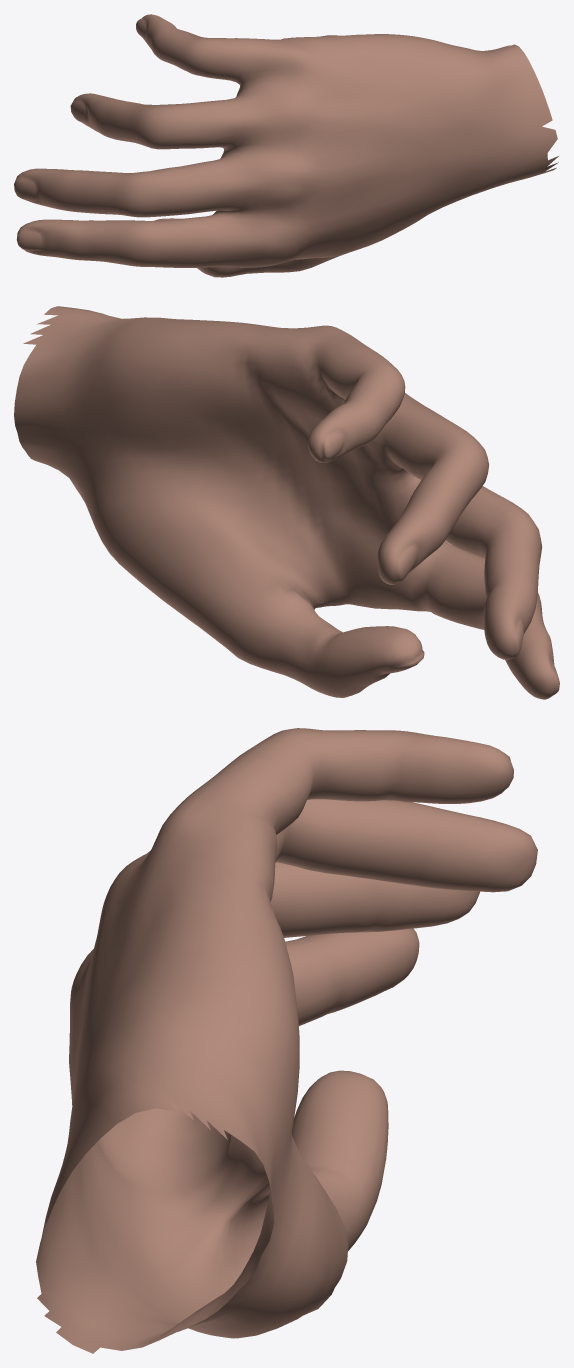
Rendered from hand_r.fbx.
3 renders of one model, top to bottom at view 1: azimuth 30°, elevation 25°; view 2: azimuth 150°, elevation 25°; view 3: azimuth 270°, elevation 25°, orthographic. The views are drawn at different scales.
Parts seen in each view (by area): view 1: hand_r-1; view 2: hand_r-1; view 3: hand_r-1.
Boxes of the visible parts, <box> form: hand_r-1: <box>14,14,559,277</box>; hand_r-1: <box>14,306,559,699</box>; hand_r-1: <box>36,728,537,1353</box>.
Size of the model in its own units: 0.1655 by 0.079 by 0.086.
